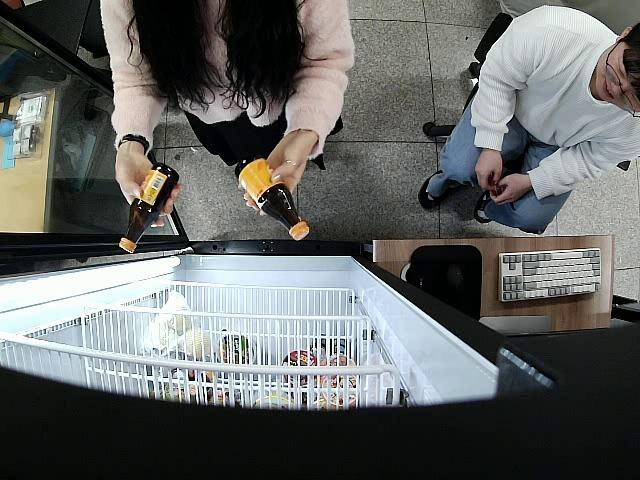17_vita500: (236, 154, 310, 241), (118, 161, 180, 252)
